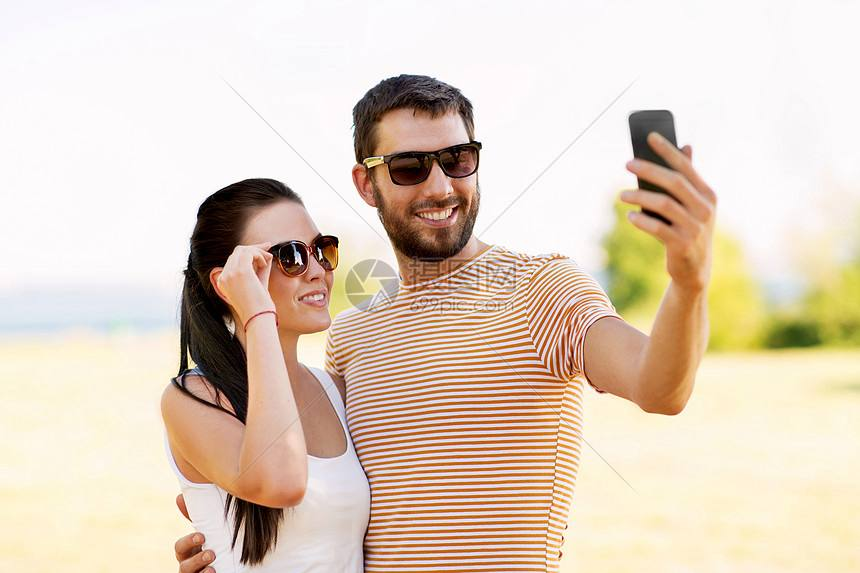taking photos: (617, 104, 722, 293)
